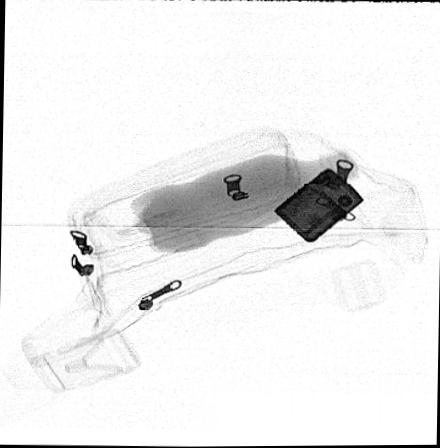Lighter: (271, 165, 362, 242)
